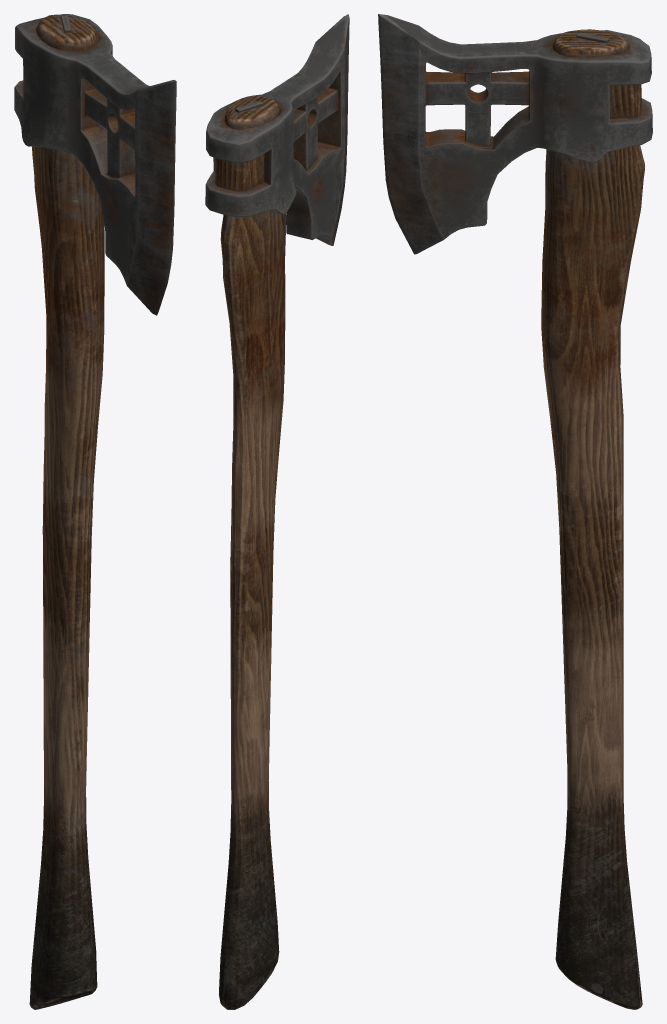
Rendered from wooden_axe_03.glb.
3 renders of one model, left to right at view 1: azimuth 30°, elevation 25°; view 2: azimuth 150°, elevation 25°; view 3: azimuth 270°, elevation 25°, orthographic. The views are drawn at different scales.
Parts seen in each view (by area): view 1: wooden_axe_03; view 2: wooden_axe_03; view 3: wooden_axe_03.
Part boxes in pixels (<box>): wooden_axe_03: <box>14,14,176,1009</box>; wooden_axe_03: <box>205,14,349,1009</box>; wooden_axe_03: <box>378,14,652,1009</box>.
Size of the model in its own units: 0.0505 by 0.6318 by 0.1583.
1 material, 1 textured.
